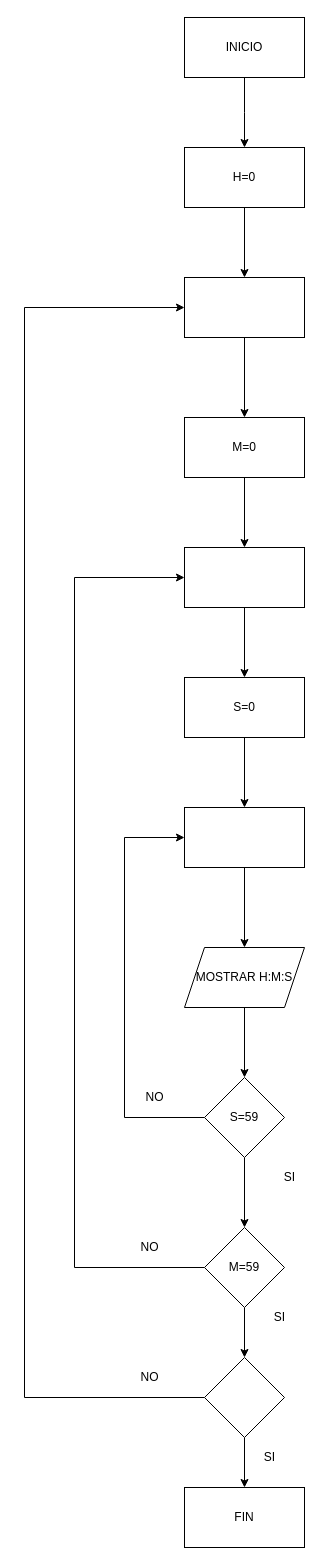
Some shapes in this 322 by 1565 pixel diagram are drawn without their labels. The shapes that lost their labels are listed below. From the top down, each one's box as (x1, y1, x2, y2) in pixels, then its label:
(184, 276, 304, 338): H=H+1
(184, 546, 304, 608): M=M+1
(184, 806, 304, 868): S=S+1
(204, 1356, 284, 1438): H=23
